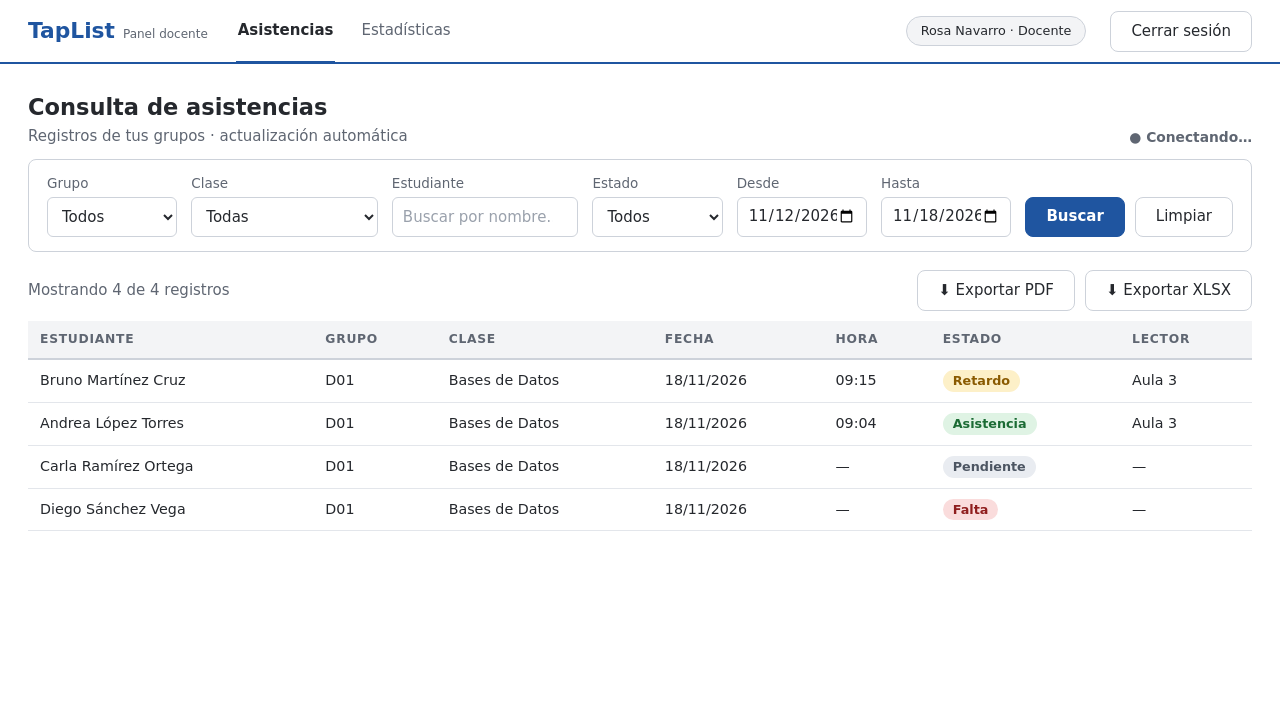
Test: P2 · Exportar › demasiadas filas (422): pide acotar los filtros
Expected: the text "Mostrando 4 de 4 registros" is shown, [28,280,230,301]
Click the button "⬇ Exportar PDF" at {"x": 996, "y": 290}, box [917,270,1075,311]
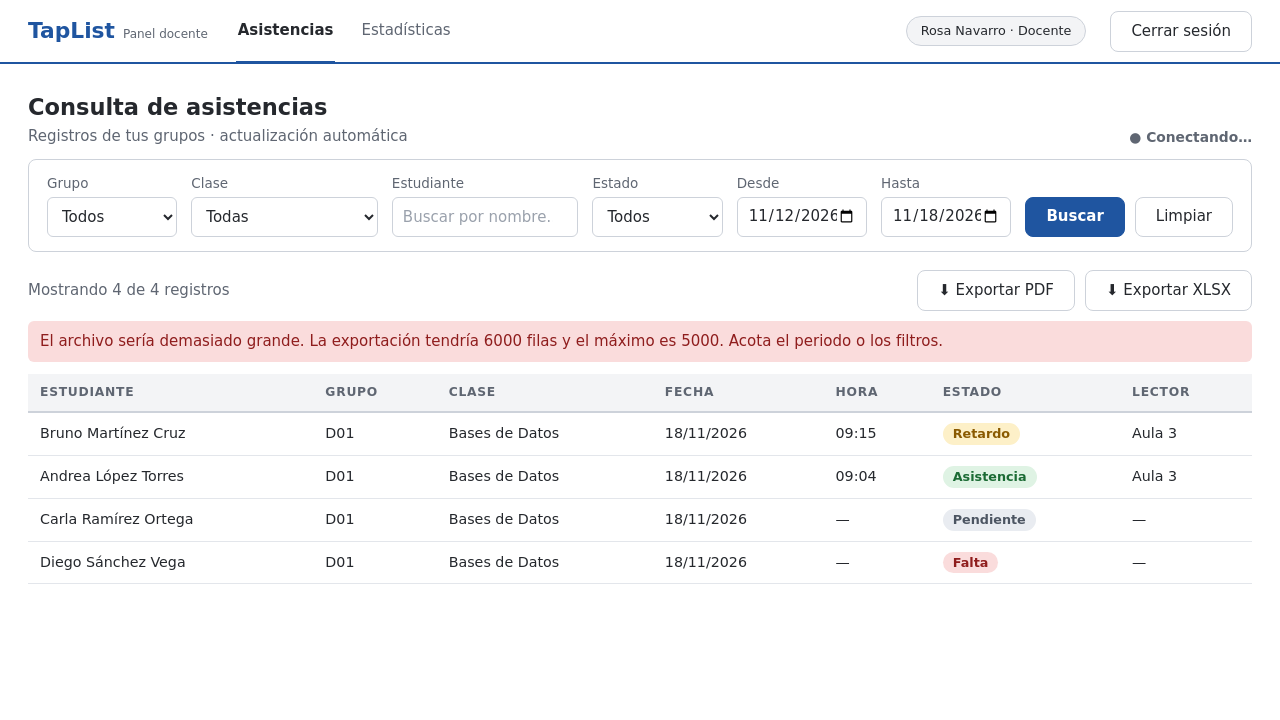
Now the 2nd message shows "El archivo sería demasiado grande. La exportación tendría 6000 filas y el máximo es 5000. Acota el periodo o los filtros.", box [40,332,943,350]
